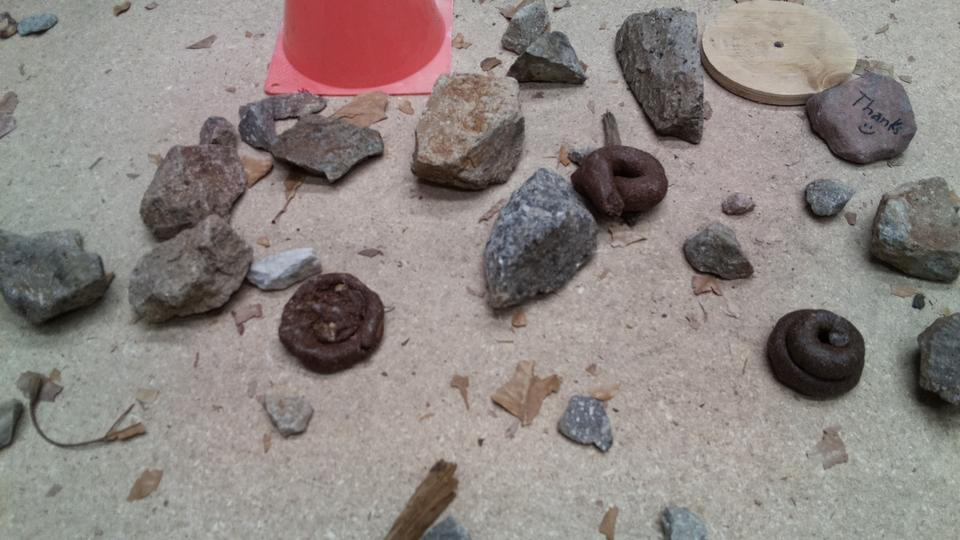poop: (277, 270, 389, 377), (763, 307, 870, 401), (570, 144, 670, 225)
